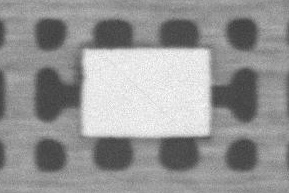DIE_CRACK: (157, 37, 265, 83)
